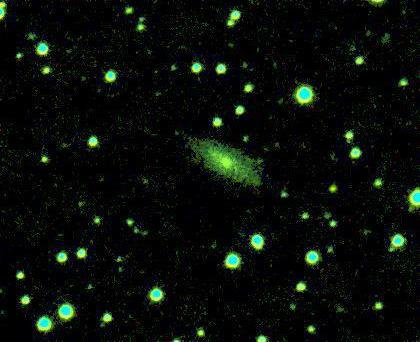star: (316, 171, 346, 201)
